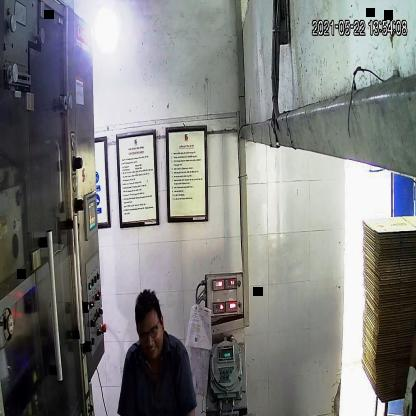goggles: (136, 320, 163, 346)
